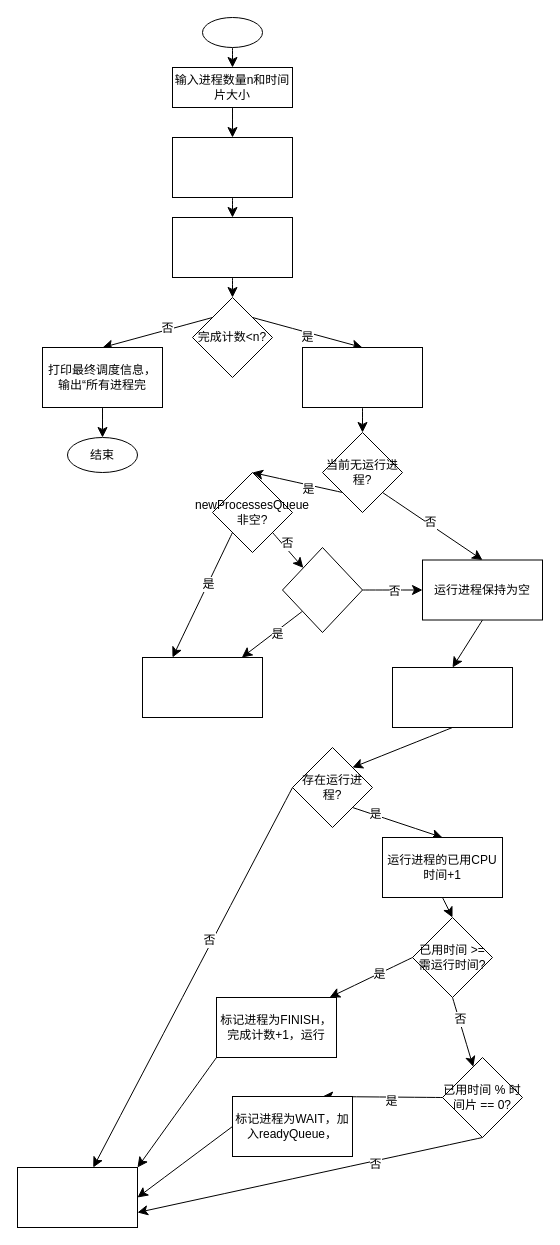
Image size: 560x1245. Some labels were removed from this diagram. Here are the shapes that lost their labels. From the top down, the box of each, then its label:
(202, 16, 262, 48): 开始
(172, 136, 292, 198): 输入n个进程的PCB信息(名/到达时间
(172, 216, 292, 278): 初始化队列(newProcessesQueue/rec
(302, 346, 422, 408): 检测当前时间到达的进程，加入newPr
(282, 546, 362, 632): readyQueue非空?
(392, 666, 512, 728): 打印当前时间的调度信息
(16, 1166, 138, 1228): 当前时间+1，返回E
